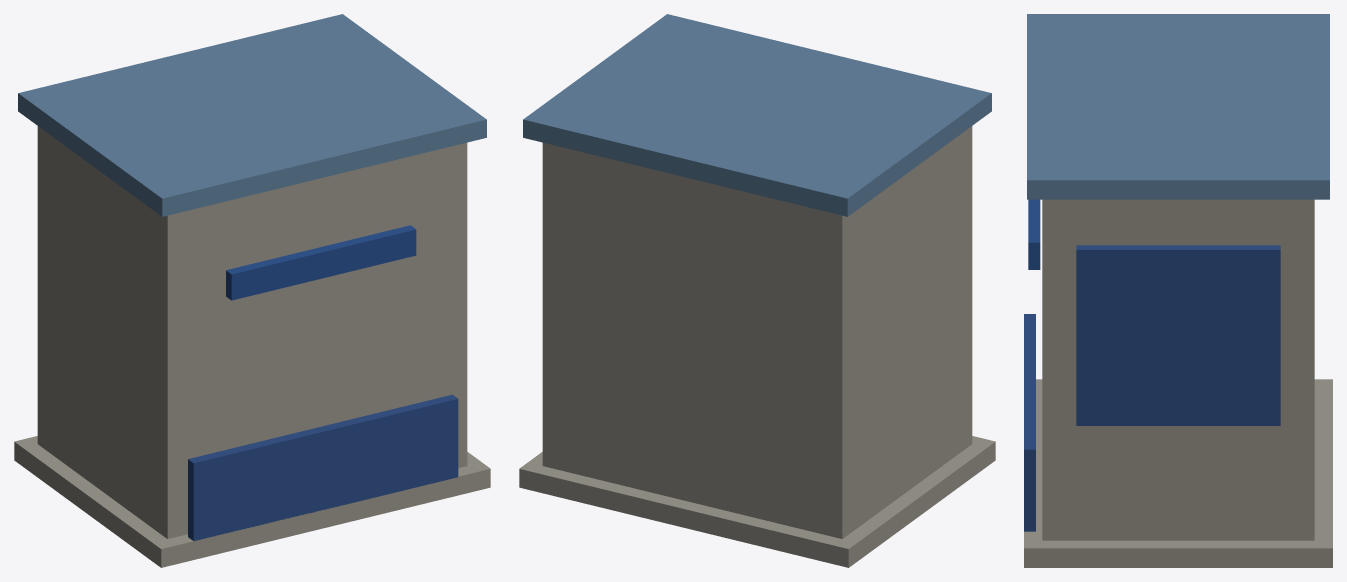
Rendered from bld_commercial_a07_lod1.glb.
3 views of the same model, side by side, from view 1: azimuth 30°, elevation 25°; view 2: azimuth 150°, elevation 25°; view 3: azimuth 270°, elevation 25° (orthographic). The views are drawn at different scales.
Visible parts, largest first — view 1: body; view 2: body; view 3: body.
Boxes of the visible parts, x1,y1,x2,y2 form: body: (14, 14, 490, 567); body: (519, 14, 995, 567); body: (1024, 14, 1332, 567).
Bounding box in the file's own units: 6.6 × 7.03 × 5.1.
